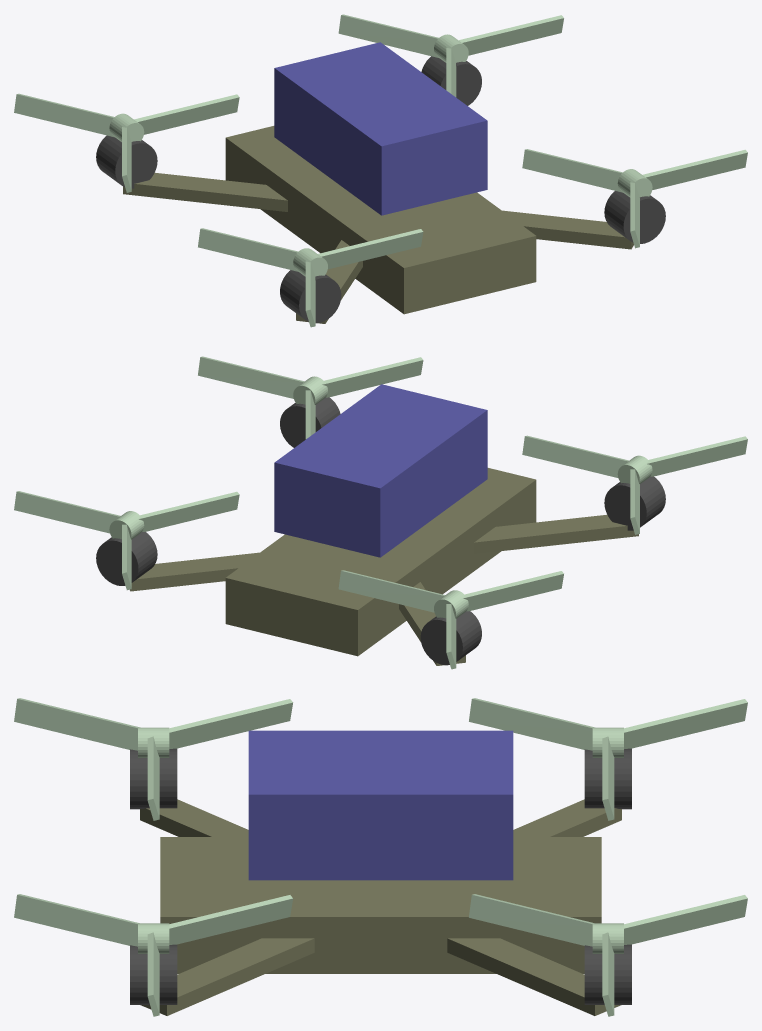
The model's file is JuiceMode.glb.
3 views of the same model, one above another, from view 1: azimuth 30°, elevation 25°; view 2: azimuth 150°, elevation 25°; view 3: azimuth 270°, elevation 25° (orthographic). The views are drawn at different scales.
Visible parts, largest first — view 1: battery, frame_body, prop_2, prop_0, prop_3, prop_1, arm_3, arm_0, motor_2, motor_0, motor_3, motor_1 (+1 smaller); view 2: battery, frame_body, prop_3, prop_1, prop_2, prop_0, arm_2, arm_1, motor_1, motor_3, motor_2, motor_0 (+1 smaller); view 3: battery, frame_body, prop_0, prop_1, prop_2, prop_3, arm_1, arm_0, arm_2, arm_3, motor_2, motor_3 (+2 smaller).
Boxes of the visible parts, x1,y1,x2,y2 form: battery: [274, 42, 487, 215]; frame_body: [225, 126, 536, 314]; prop_2: [198, 228, 423, 327]; prop_0: [522, 149, 747, 248]; prop_3: [14, 93, 239, 192]; prop_1: [338, 14, 563, 97]; arm_3: [123, 172, 287, 211]; arm_0: [502, 210, 633, 249]; motor_2: [280, 270, 341, 323]; motor_0: [604, 191, 665, 243]; motor_3: [96, 135, 157, 188]; motor_1: [421, 56, 481, 105]; battery: [274, 384, 487, 557]; frame_body: [225, 468, 536, 656]; prop_3: [338, 570, 563, 669]; prop_1: [14, 491, 239, 590]; prop_2: [522, 435, 747, 534]; prop_0: [198, 356, 423, 439]; arm_2: [474, 514, 638, 553]; arm_1: [130, 552, 259, 591]; motor_1: [96, 532, 157, 585]; motor_3: [420, 611, 481, 665]; motor_2: [604, 476, 665, 530]; motor_0: [280, 397, 340, 447]; battery: [248, 730, 513, 880]; frame_body: [160, 837, 601, 973]; prop_0: [14, 894, 293, 1016]; prop_1: [469, 894, 747, 1016]; prop_2: [14, 698, 293, 820]; prop_3: [469, 698, 747, 820]; arm_1: [447, 938, 621, 1015]; arm_0: [140, 938, 314, 1015]; arm_2: [140, 799, 248, 836]; arm_3: [513, 799, 621, 836]; motor_2: [130, 748, 177, 809]; motor_3: [584, 748, 631, 809].
Bounding box in the file's own units: 0.2237 × 0.06 × 0.2327.
